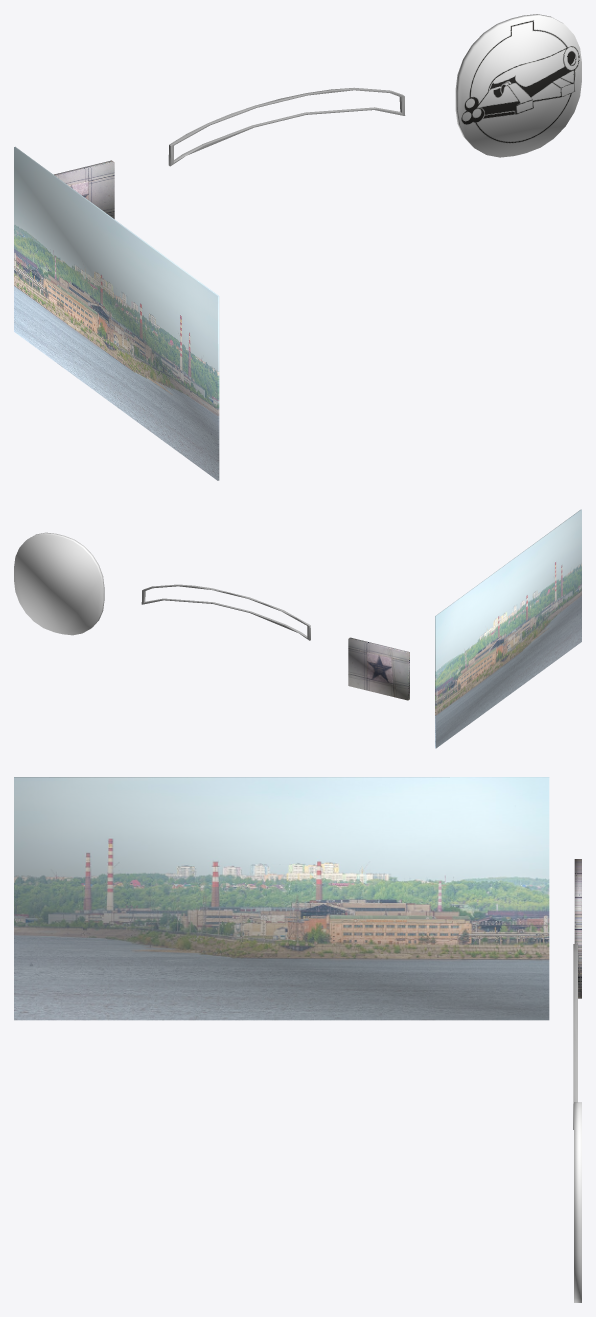
Rendered from holl.glb.
3 renders of one model, top to bottom at view 1: azimuth 30°, elevation 25°; view 2: azimuth 150°, elevation 25°; view 3: azimuth 270°, elevation 25°, orthographic. The views are drawn at different scales.
Parts seen in each view (by area): view 1: yadra.003; view 2: yadra.003; view 3: yadra.003.
Boxes of the visible parts, <box> form: yadra.003: <box>14,14,581,480</box>; yadra.003: <box>14,509,581,748</box>; yadra.003: <box>14,777,581,1302</box>.
Size of the model in its own units: 20.76 by 6.35 by 13.47.
4 materials, 3 textured.
